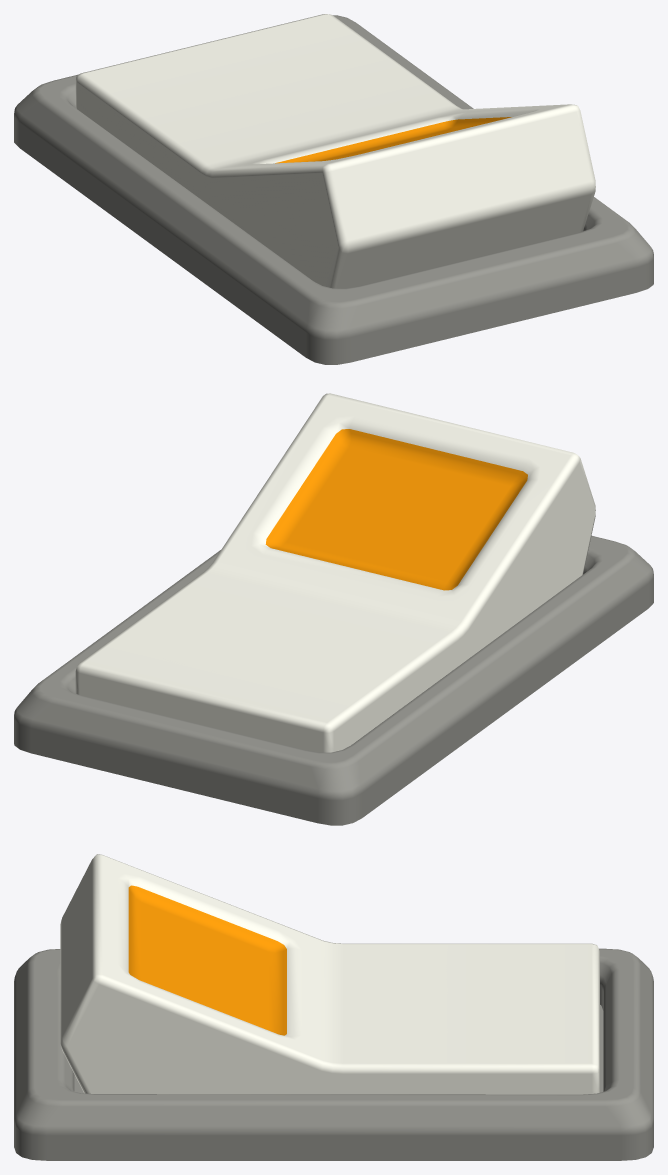
File: Switch #10.fbx
3 renders of one model, top to bottom at view 1: azimuth 30°, elevation 25°; view 2: azimuth 150°, elevation 25°; view 3: azimuth 270°, elevation 25°, orthographic.
Visible parts, largest first — view 1: kitbash_58; view 2: kitbash_58; view 3: kitbash_58.
Part boxes in pixels (x1,y1,x2,y2): kitbash_58: [14, 14, 653, 364]; kitbash_58: [14, 393, 653, 825]; kitbash_58: [14, 854, 653, 1160].
Size of the model in its own units: 4 by 1.8 by 6.45.
